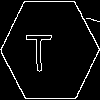T: (25, 25, 52, 72)
